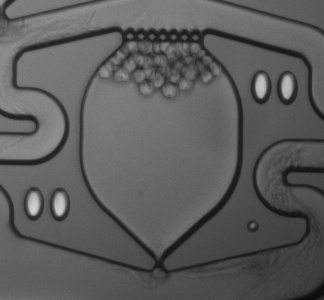AptNum: (244, 62, 304, 110)
Marker: (242, 217, 264, 238)
StNum: (16, 179, 80, 230)
Trap: (132, 257, 188, 300)
